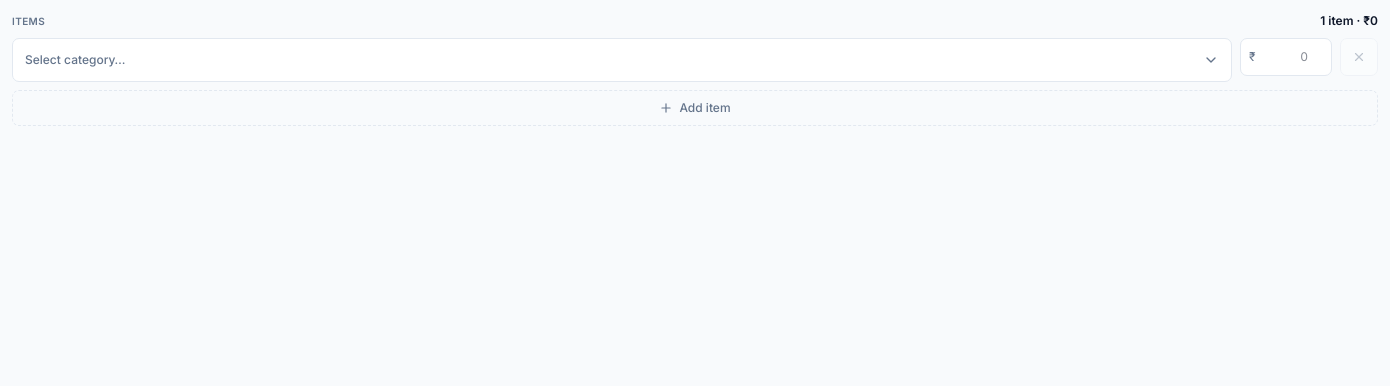
Test: MultiItemExpenseForm — placing a new item under an existing subcategory › typing a brand-new item name and creating it reveals a "place under" step instead of flattening it to a new top-level category
Click the button "Select category…". click: coordinates (75, 60)
box: top-left (12, 38), bottom-right (1232, 82)
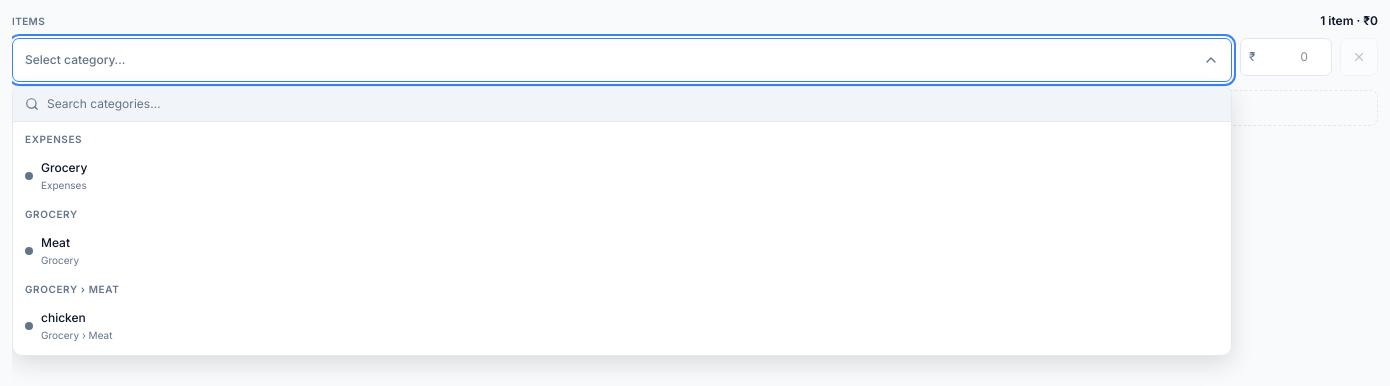
Type "egg" into the field with placeholder "Search categories…". click: coordinates (633, 104)
box: top-left (47, 95), bottom-right (1219, 113)
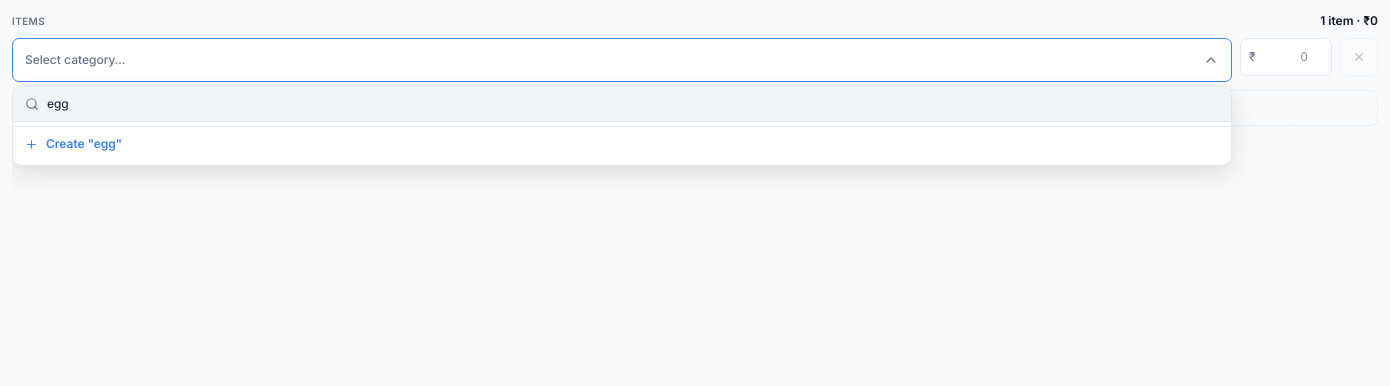
Click the button "Create \"egg\"". click: coordinates (84, 144)
box: top-left (13, 126), bottom-right (1231, 161)
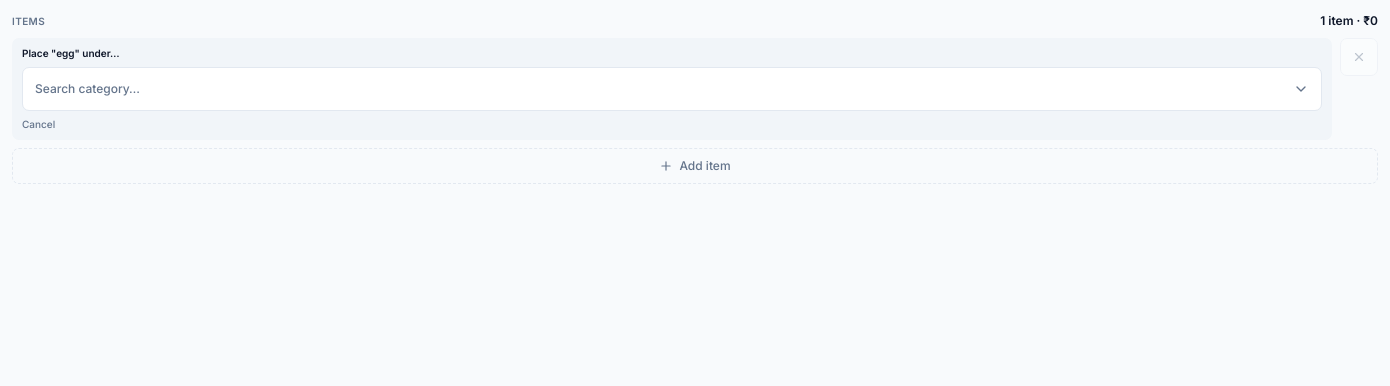
Now the text "Place \"egg\" under…" is shown, box top-left (22, 47), bottom-right (120, 59)
